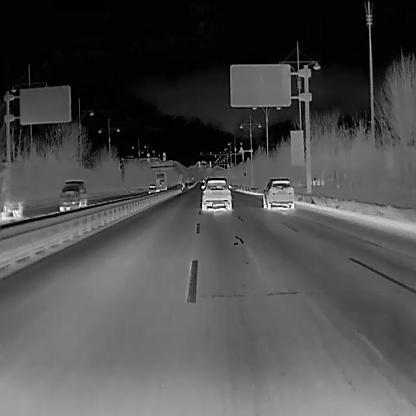car: (0, 159, 23, 219), (262, 175, 295, 209), (201, 176, 232, 212), (56, 180, 87, 214), (154, 172, 167, 190), (147, 184, 155, 194)
